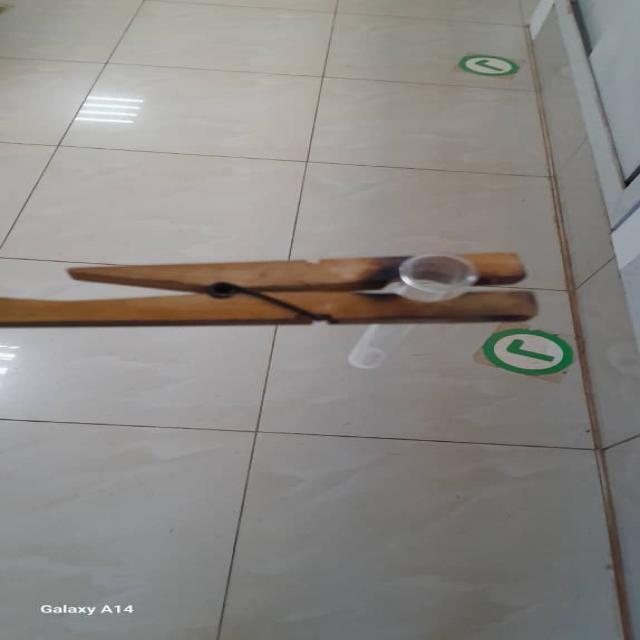Test Tube Holder: (40, 250, 568, 328)
